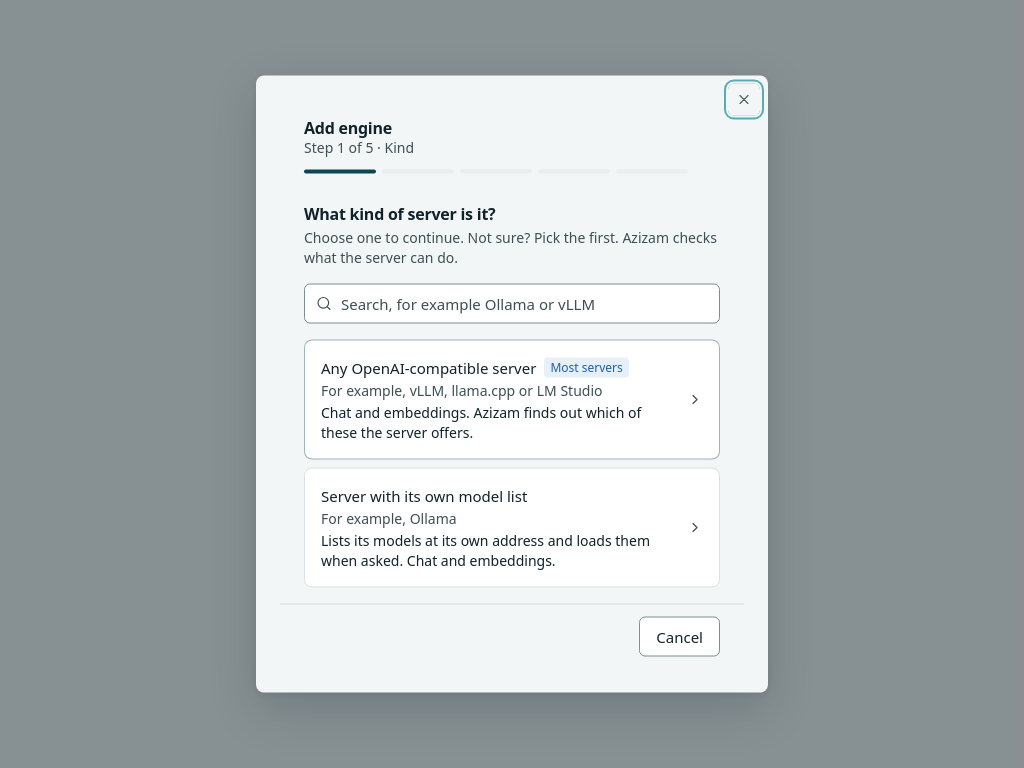
a: kind search › matches hidden keywords and says what it matched on
Type "ollama" into the search field named "Search server kinds" at (512, 304), box top-left (304, 284), bottom-right (720, 324)
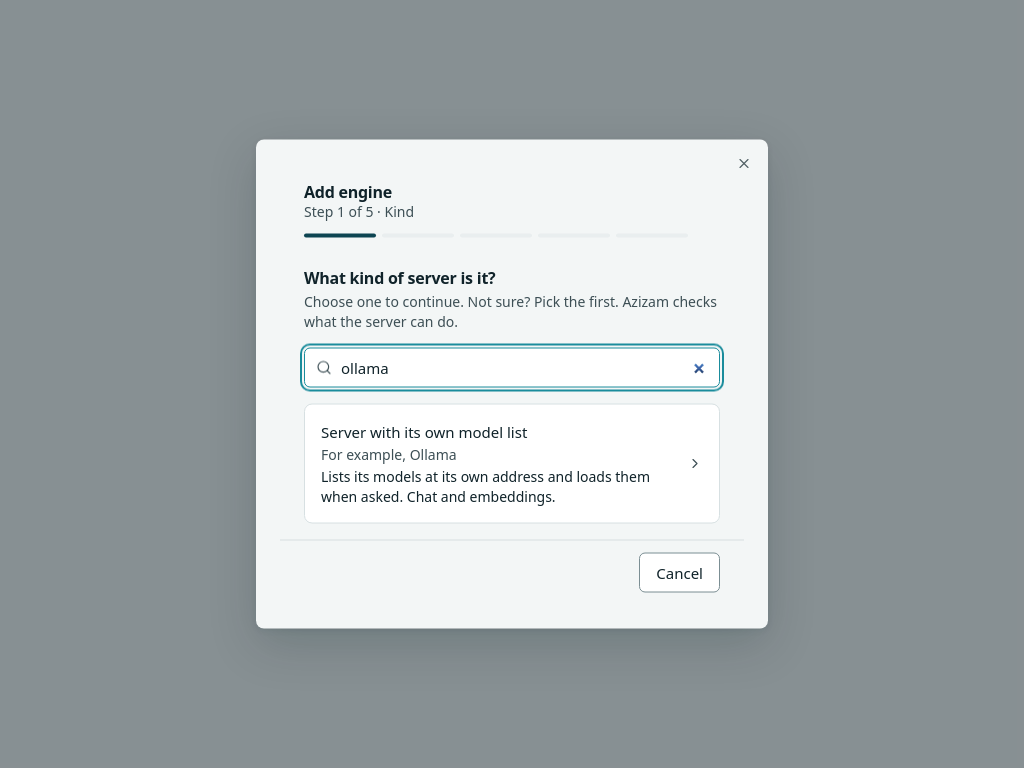
Check: the button that starts with "Server with its own model list" is shown, box top-left (304, 404), bottom-right (720, 524)
Check: the button that starts with "Server with its own model list" does not show "Matched on", box top-left (304, 404), bottom-right (720, 524)
Clear the search field named "Search server kinds" at (512, 368), box top-left (304, 348), bottom-right (720, 388)
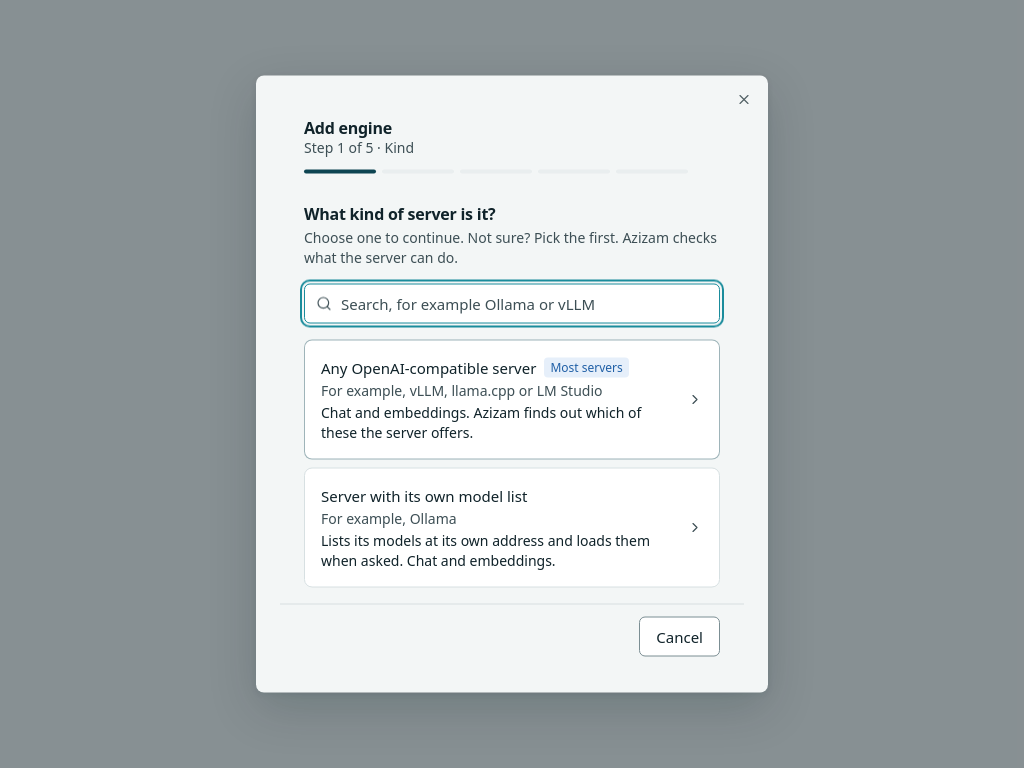
Type "sglang" into the search field named "Search server kinds" at (512, 304), box top-left (304, 284), bottom-right (720, 324)
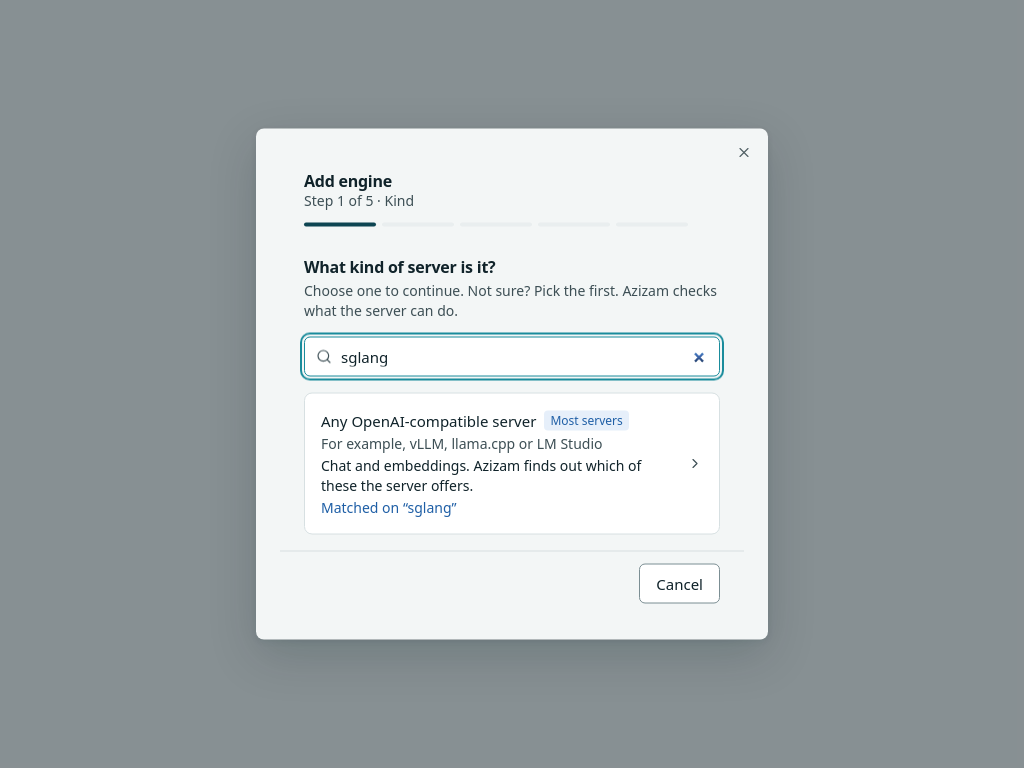
Check: the button "Any OpenAI-compatible server" shows "Matched on “sglang”", box top-left (304, 392), bottom-right (720, 534)
